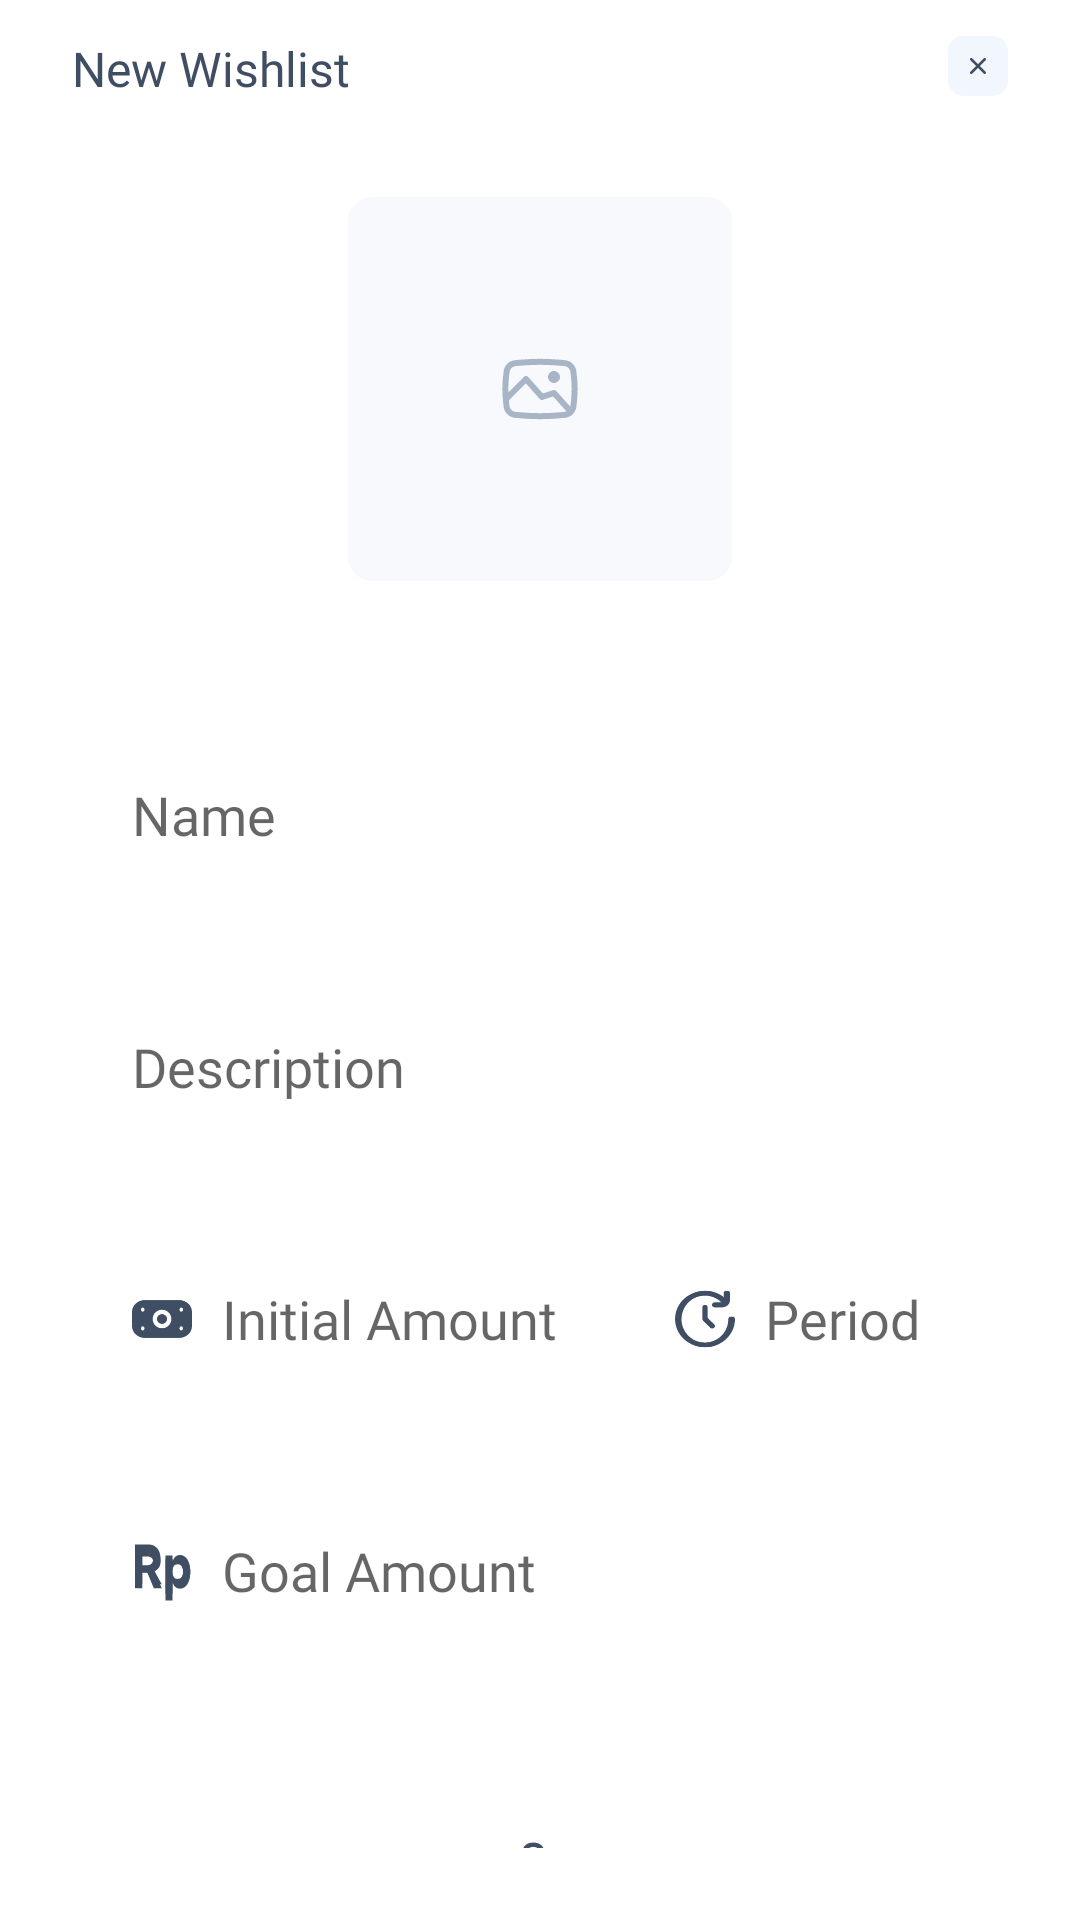

Named icons in this screenshot (1080x1920) and their centers, (x=x, y=y):
money: (x=162, y=1319)
time forward: (x=705, y=1319)
